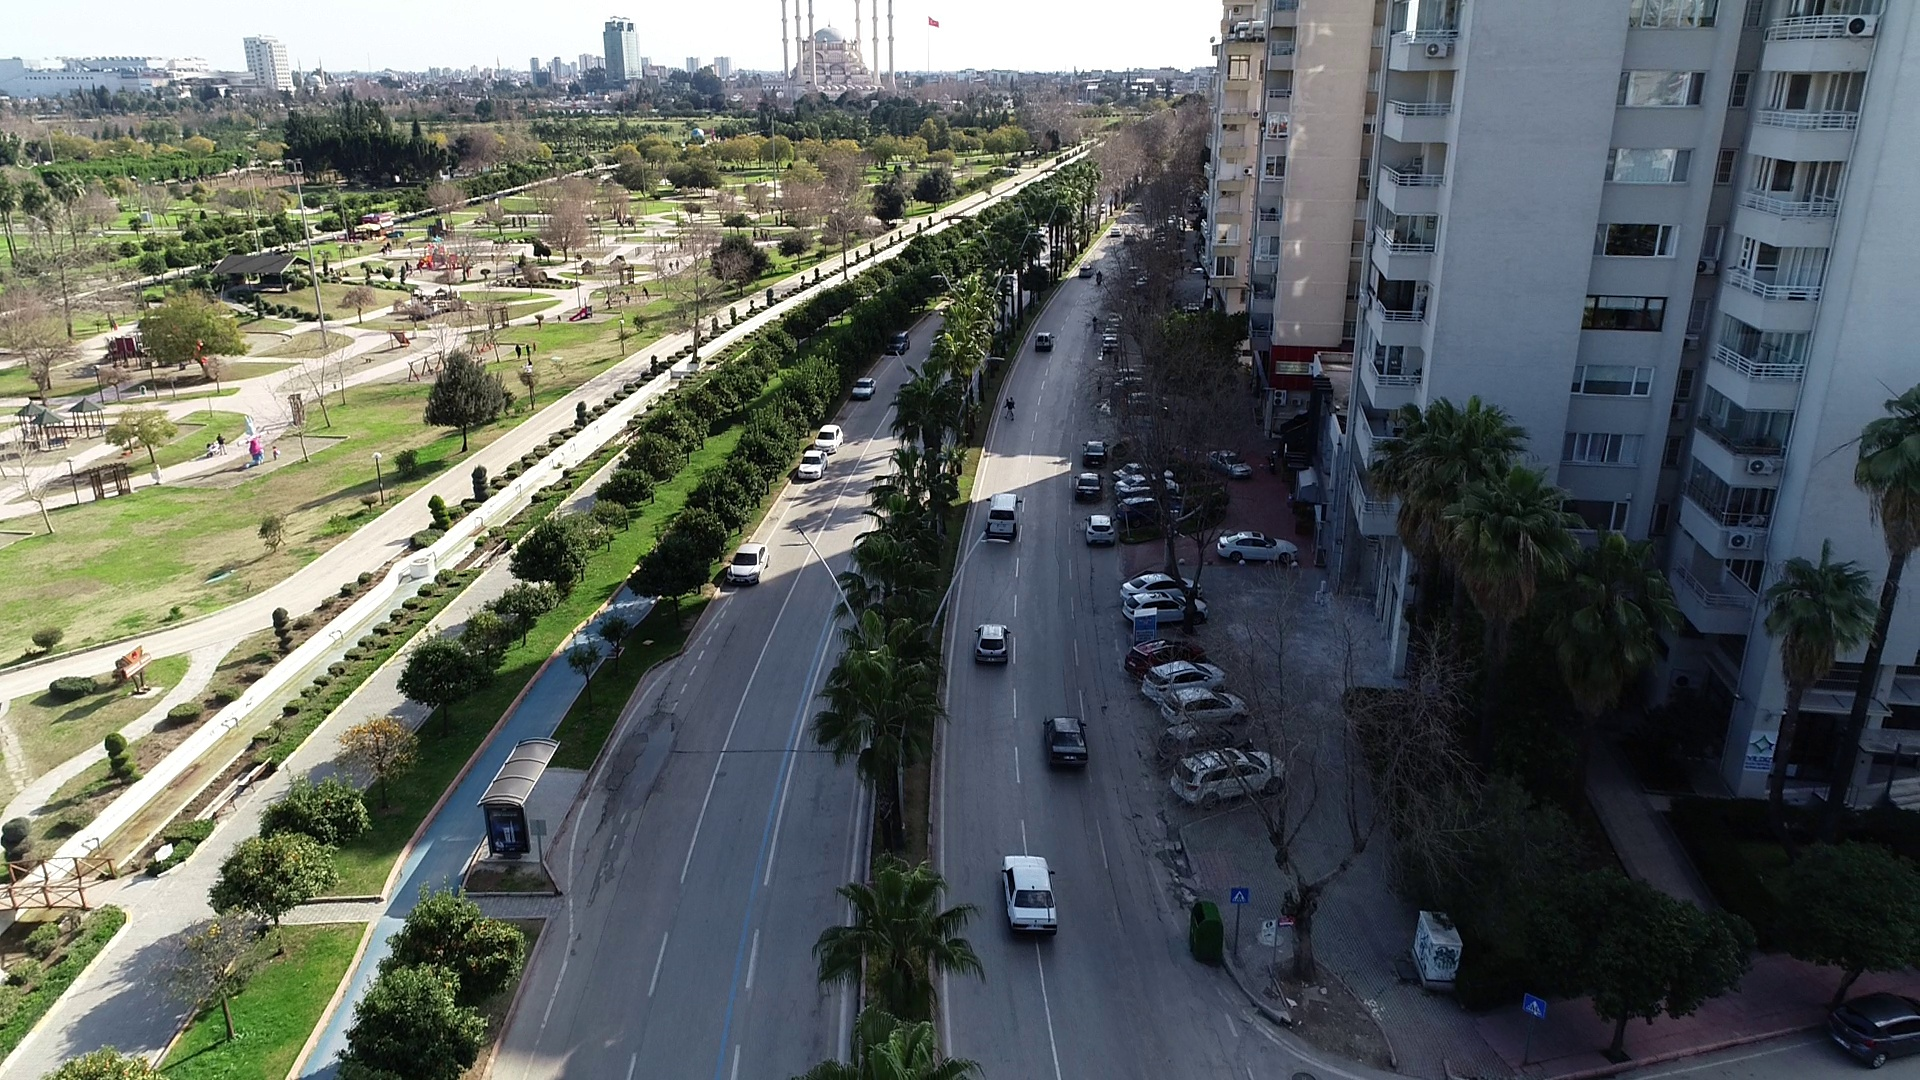car: (1166, 741, 1286, 808), (993, 844, 1065, 951), (1155, 718, 1249, 769), (1142, 658, 1229, 707), (1158, 684, 1252, 725), (1217, 527, 1305, 569), (1040, 709, 1091, 780), (1125, 636, 1210, 677), (1117, 590, 1214, 625), (726, 535, 773, 591), (970, 618, 1015, 670), (1119, 573, 1205, 598), (1205, 446, 1256, 484), (1086, 510, 1117, 551), (795, 447, 829, 482), (1072, 472, 1107, 504), (812, 423, 845, 455), (1081, 439, 1108, 472), (1030, 330, 1057, 357), (850, 377, 879, 404), (883, 332, 912, 359), (1097, 334, 1125, 355), (1099, 227, 1130, 240), (1079, 263, 1095, 283)
person: (212, 428, 233, 458), (1000, 396, 1017, 425), (1090, 373, 1108, 398), (1086, 312, 1102, 332)
